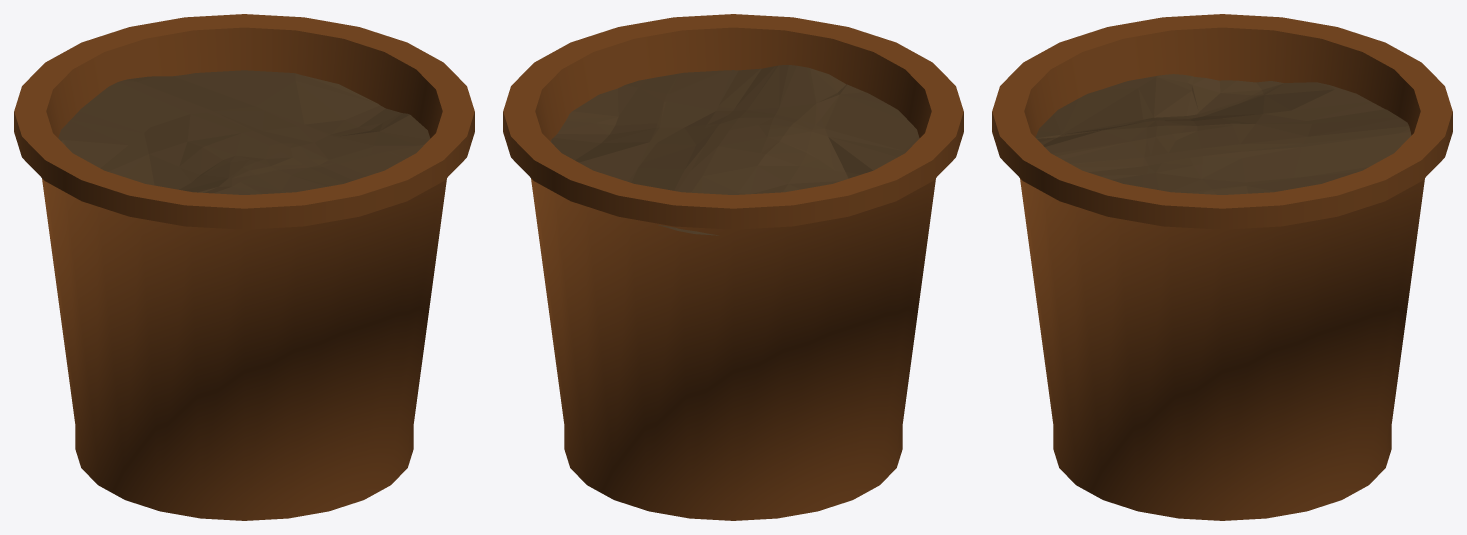
Rendered from pot.fbx.
3 views of the same model, side by side, from view 1: azimuth 30°, elevation 25°; view 2: azimuth 150°, elevation 25°; view 3: azimuth 270°, elevation 25° (orthographic).
Parts seen in each view (by area): view 1: Cylinder.015, Cylinder.016; view 2: Cylinder.015, Cylinder.016; view 3: Cylinder.015, Cylinder.016.
Part boxes in pixels (x1=…): Cylinder.015: x1=14, y1=14, x2=474, y2=520; Cylinder.016: x1=58, y1=70, x2=430, y2=194; Cylinder.015: x1=503, y1=14, x2=963, y2=520; Cylinder.016: x1=550, y1=65, x2=919, y2=235; Cylinder.015: x1=992, y1=14, x2=1452, y2=520; Cylinder.016: x1=1035, y1=74, x2=1411, y2=194.
Size of the model in its own units: 130 by 106 by 130.
